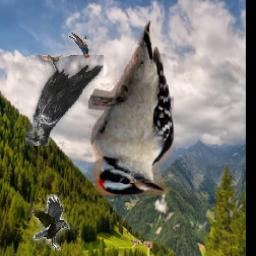Crow: (24, 56, 103, 147), (29, 194, 69, 250)
Swallow: (67, 31, 88, 58)
Woodpecker: (88, 20, 174, 195)
